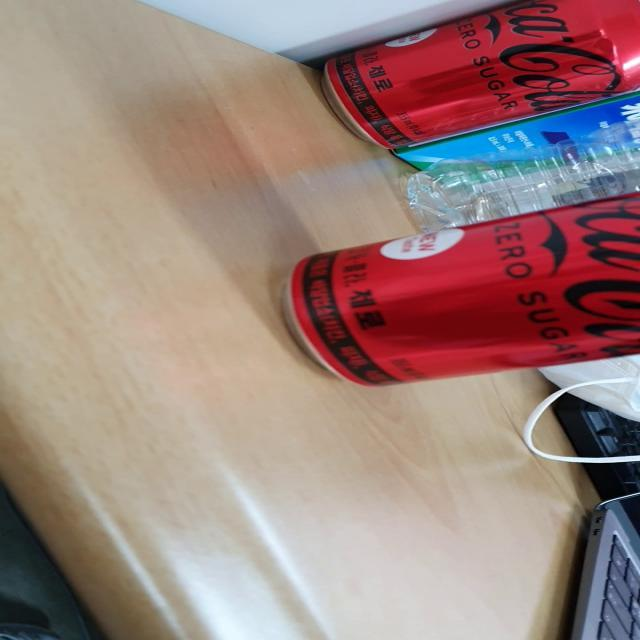coca-cola: (268, 185, 640, 399), (296, 1, 640, 148)
